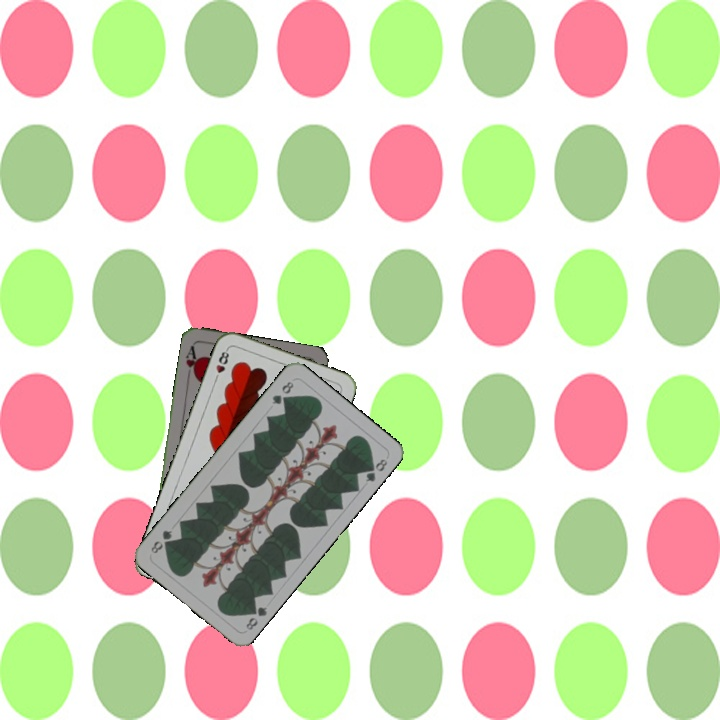G8: (242, 601, 270, 633), (268, 377, 296, 407)
H8: (211, 345, 232, 384)
HA: (181, 342, 201, 381)
